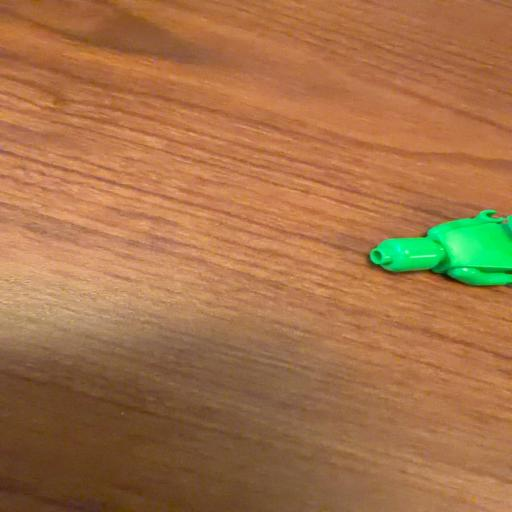UnoQ-minifig-detector: (367, 210, 512, 289)
